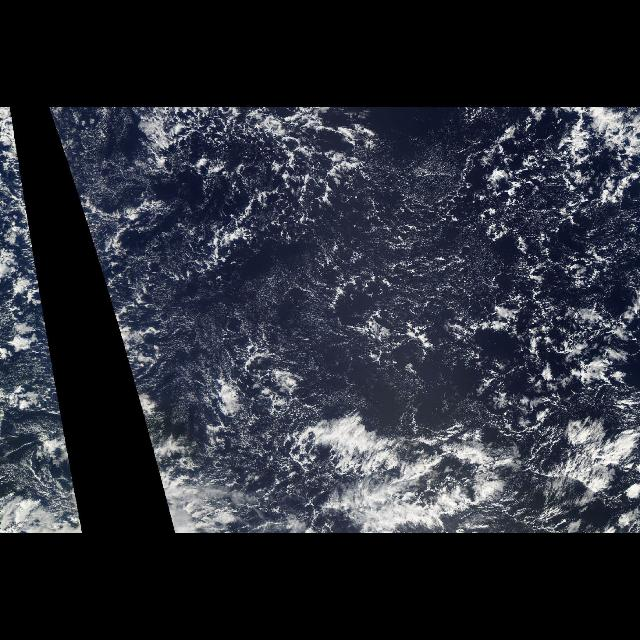Gravel: (97, 114, 638, 426)
Sugar: (204, 233, 324, 383)
